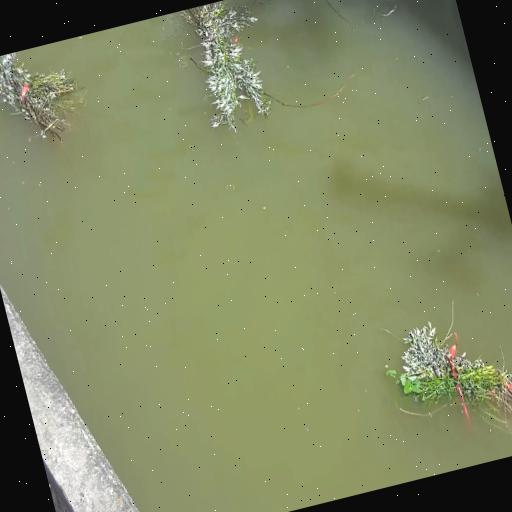twig: (173, 0, 358, 139), (373, 287, 512, 466), (0, 40, 94, 158)
